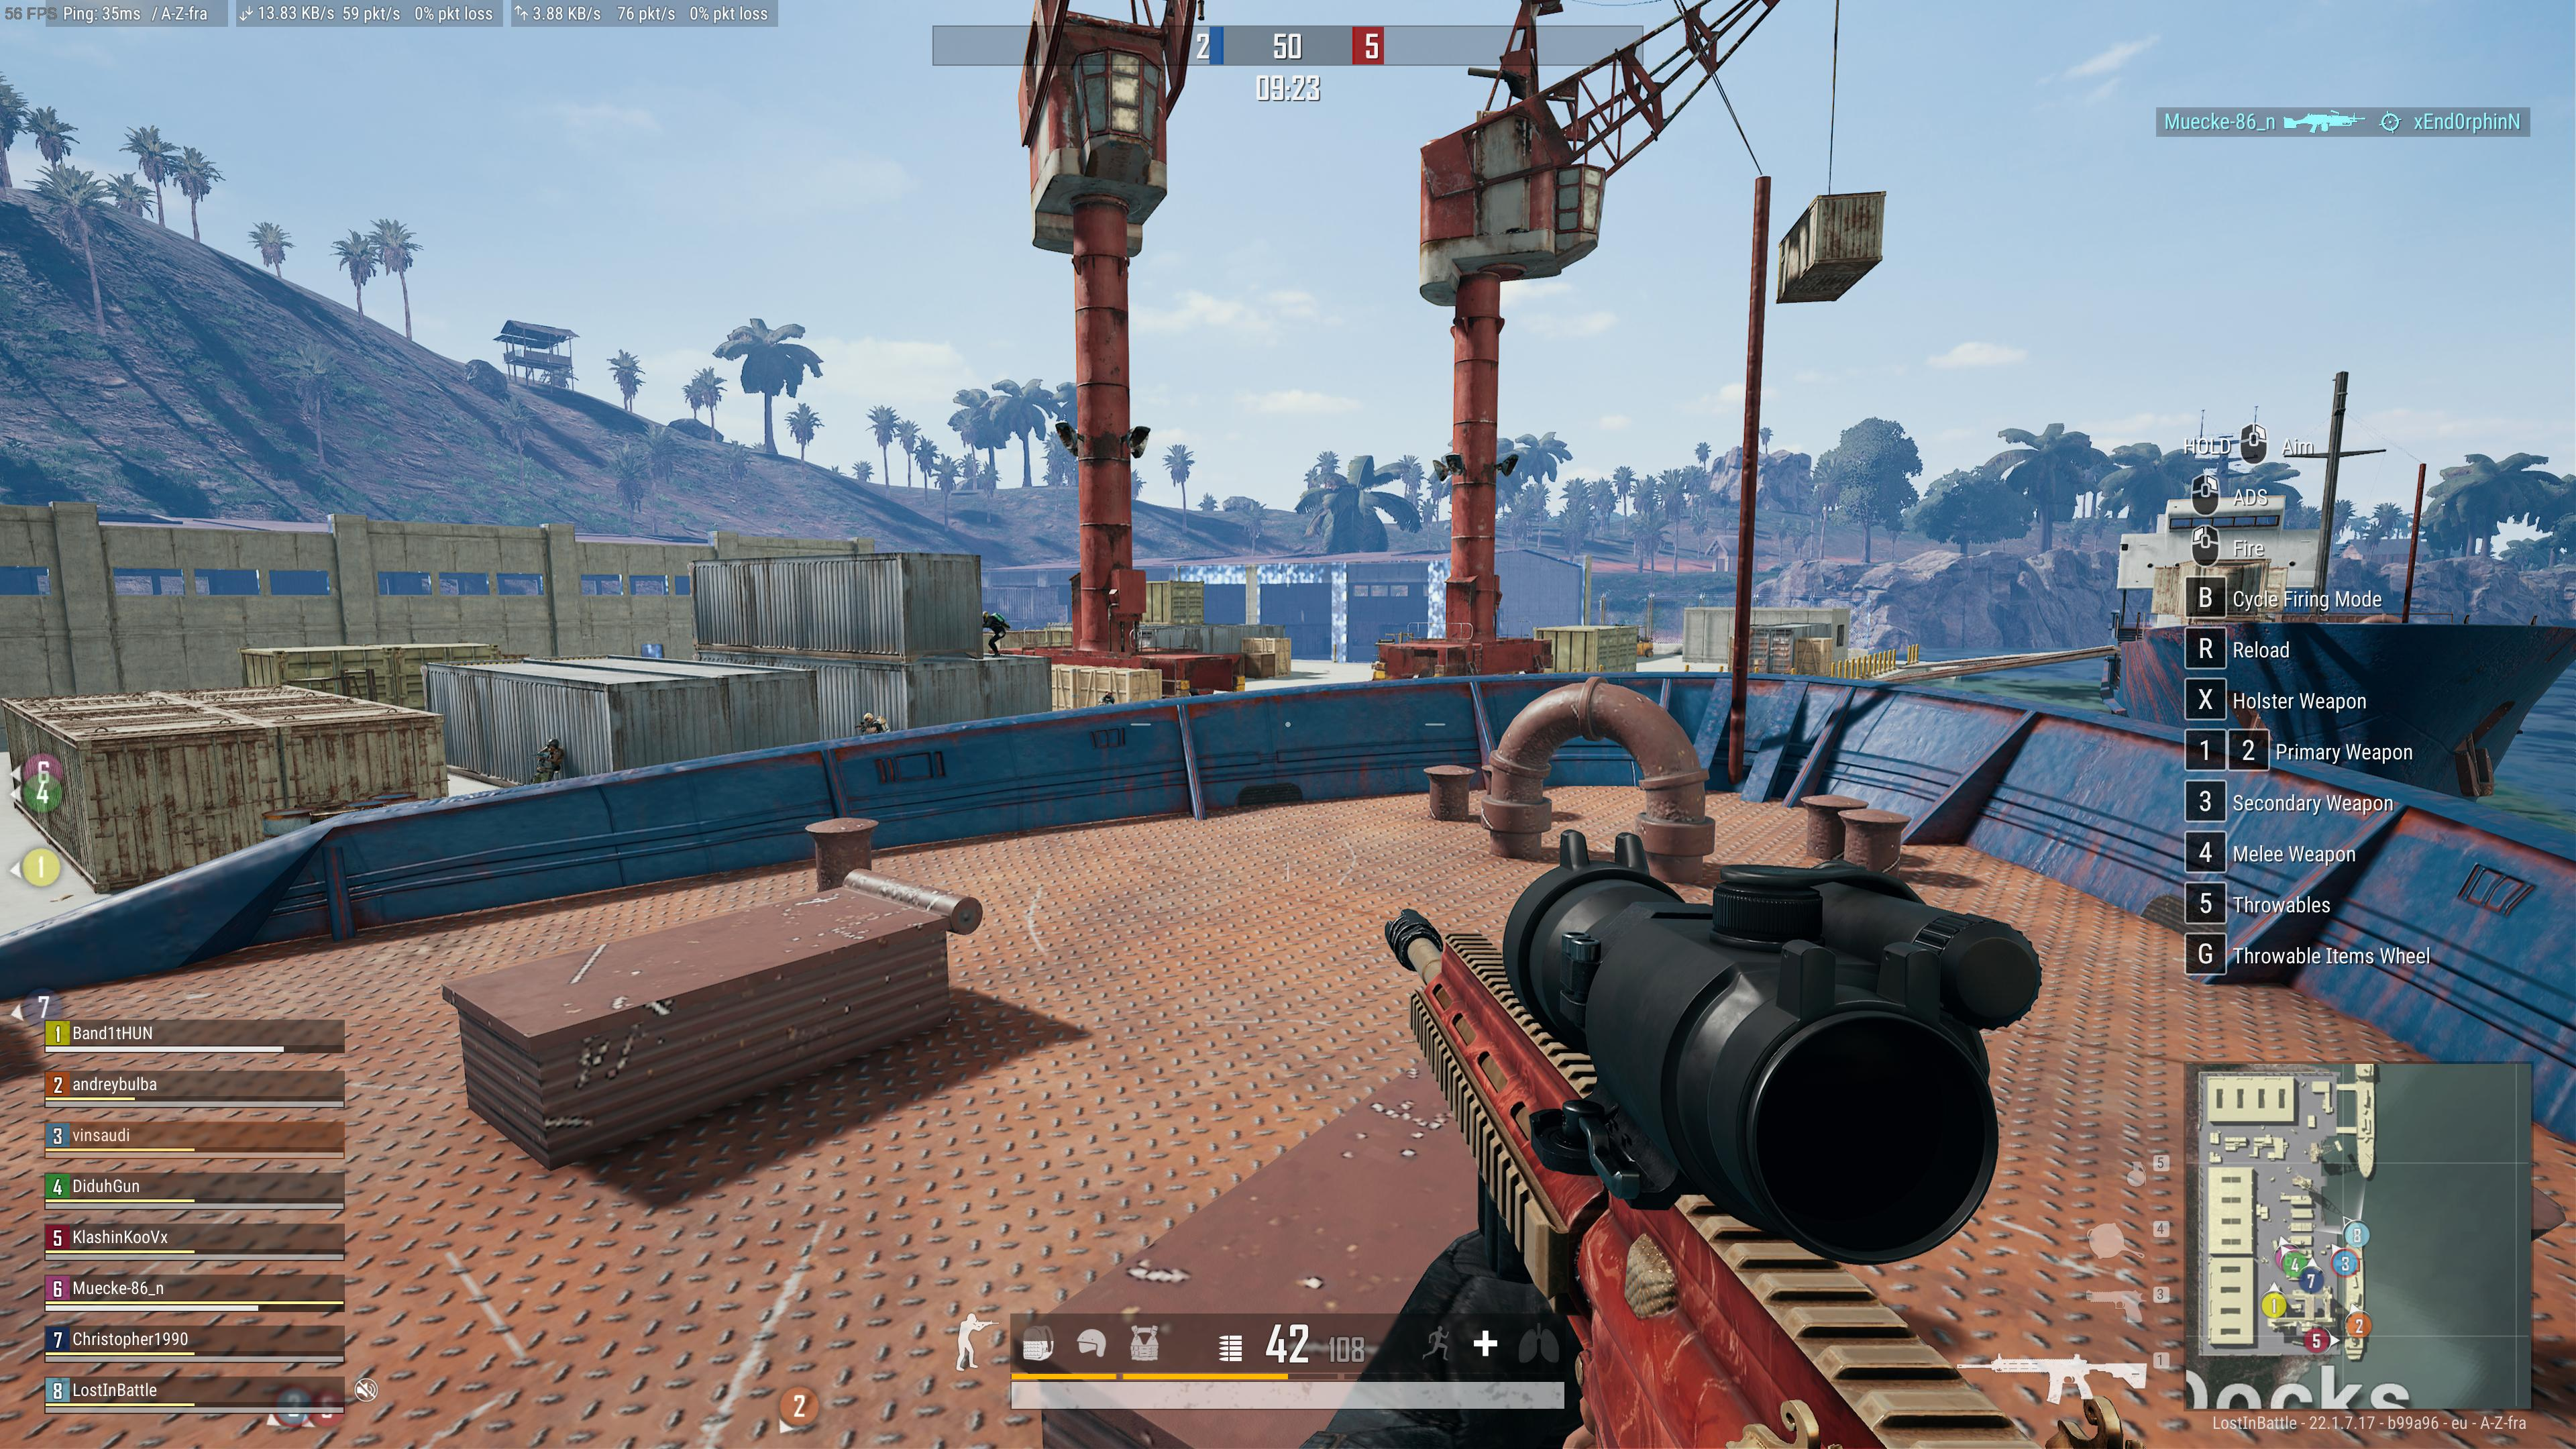enemy: (533, 736, 566, 786), (978, 609, 1007, 658), (858, 711, 888, 732), (1097, 690, 1115, 704)
enemy_head: (547, 738, 557, 752), (863, 711, 874, 724), (1102, 690, 1113, 701), (982, 609, 989, 619)
